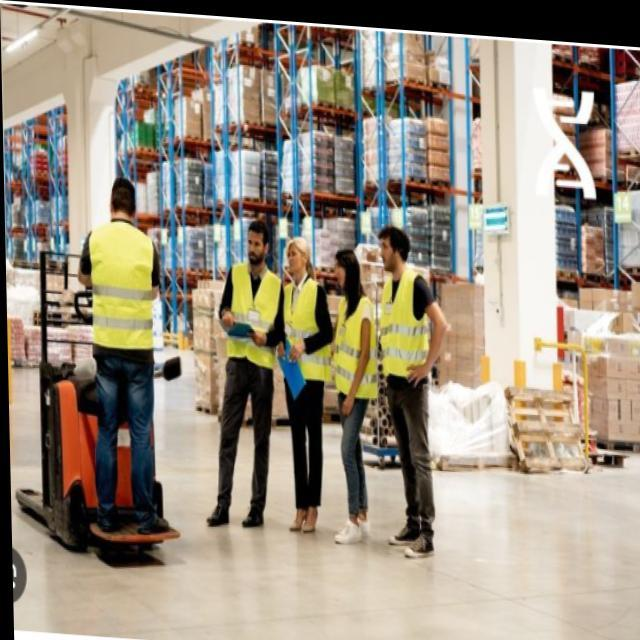shoes: (95, 492, 172, 541), (201, 488, 271, 536)
vest: (84, 215, 163, 359), (373, 259, 438, 386), (221, 255, 286, 375), (276, 274, 337, 386), (333, 289, 383, 407)
